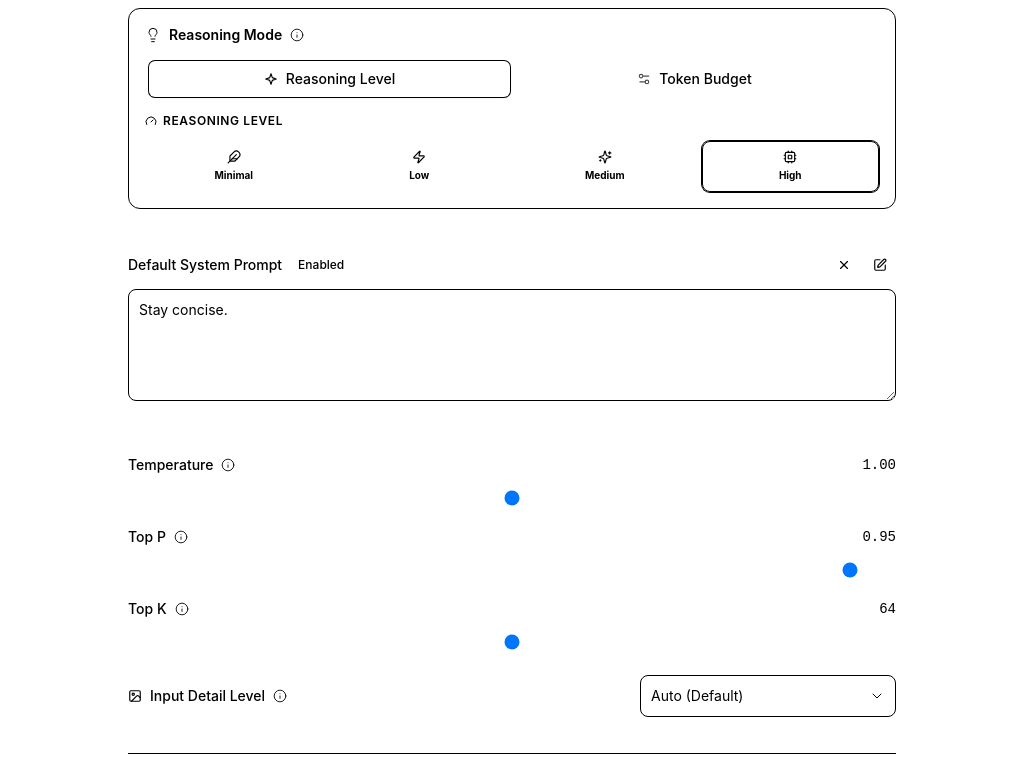
GenerationSection › shows system prompt status and clears the prompt through the current models panel
The image size is (1024, 768).
What coordinates should you click on to do the following:
click the button named "Clear system prompt"
I would click on:
 (844, 265)
Its box is [828, 249, 860, 281].
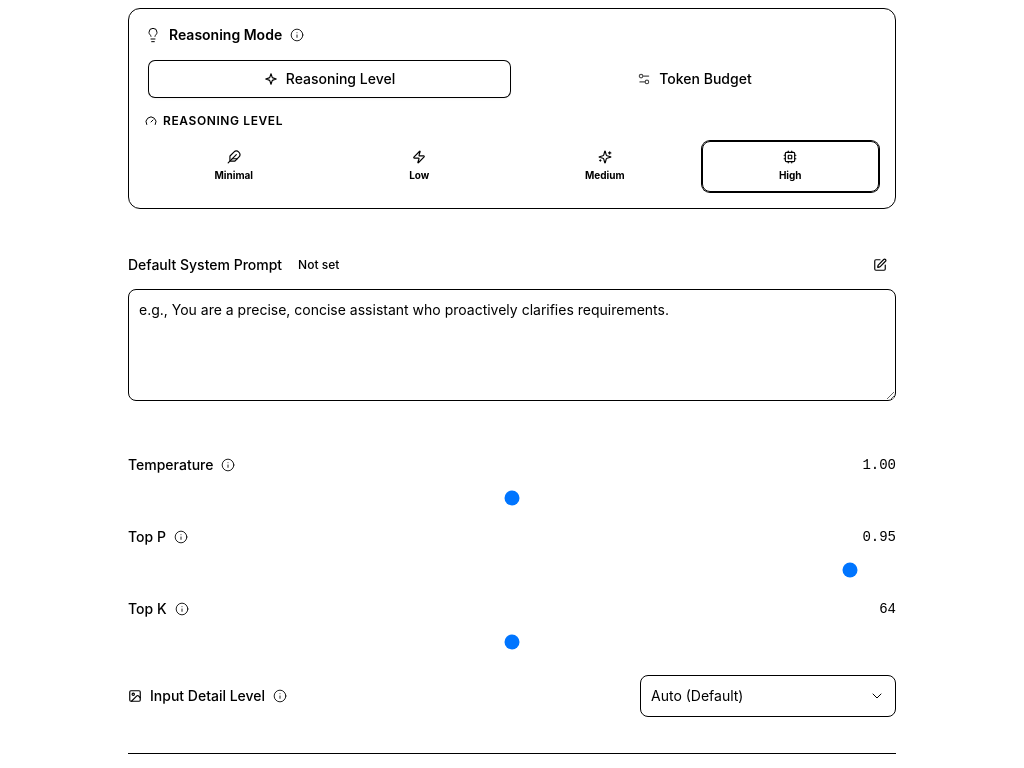
Result: the text box with id "system-prompt-input" is empty at [128, 289, 896, 401]
Result: the text "Not set" is shown at [298, 257, 339, 272]
